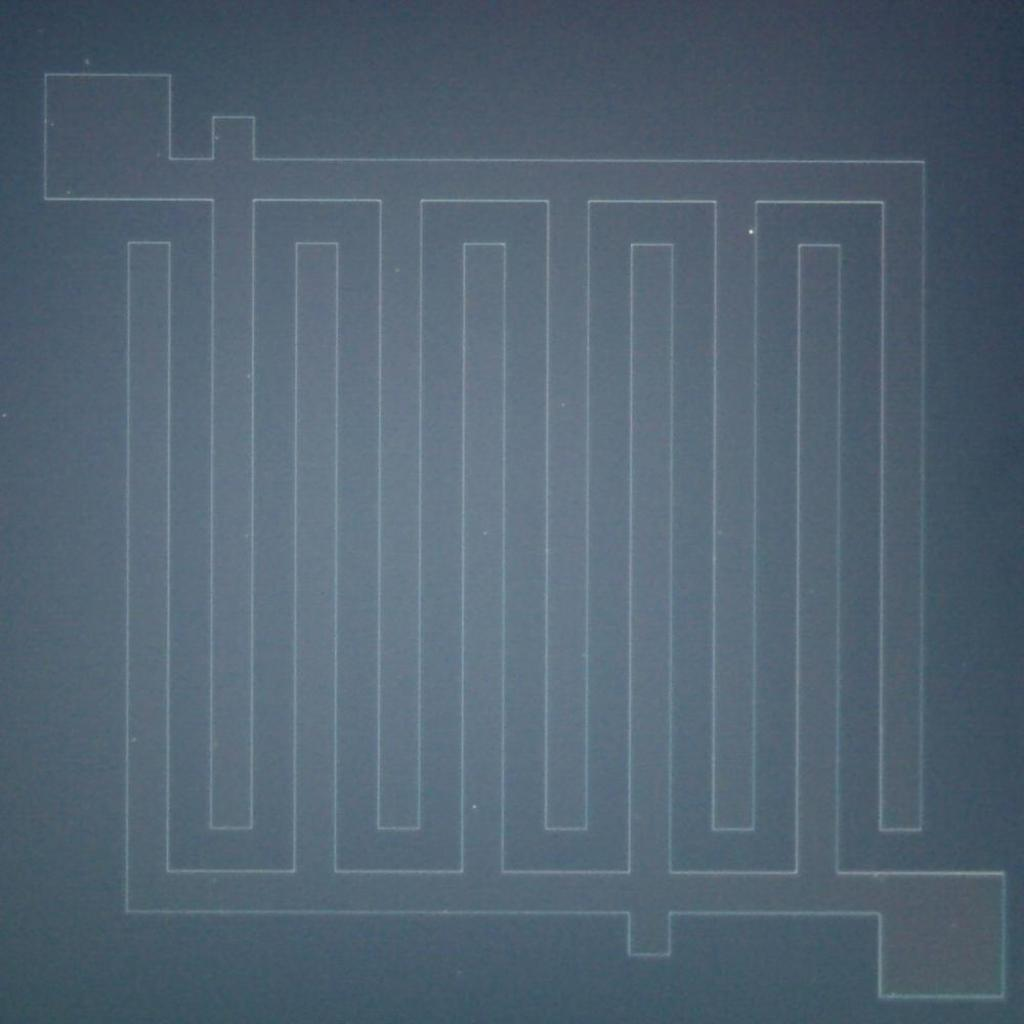dot: (82, 58, 90, 66), (246, 374, 252, 379), (482, 531, 488, 536), (395, 268, 400, 273), (748, 230, 754, 234), (2, 412, 6, 418), (50, 122, 55, 126), (132, 737, 136, 742), (215, 136, 219, 140), (66, 190, 70, 194), (561, 403, 565, 407), (472, 805, 476, 809)
